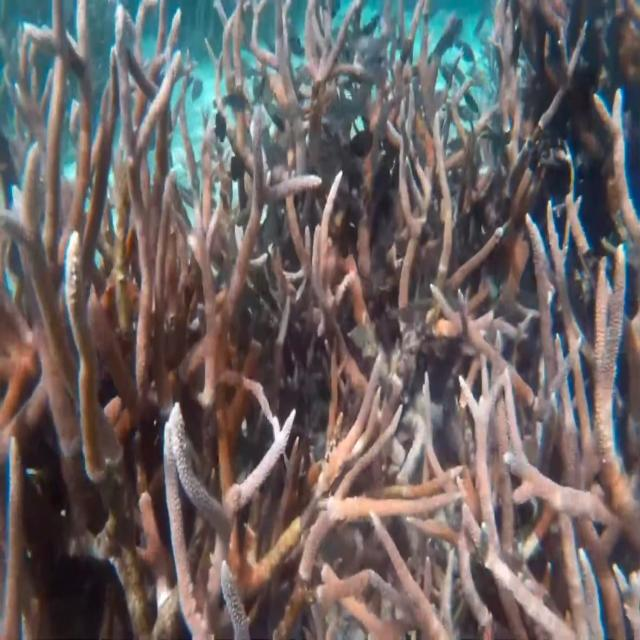Staghorn-Coral -Endangered-: (1, 4, 640, 639)
